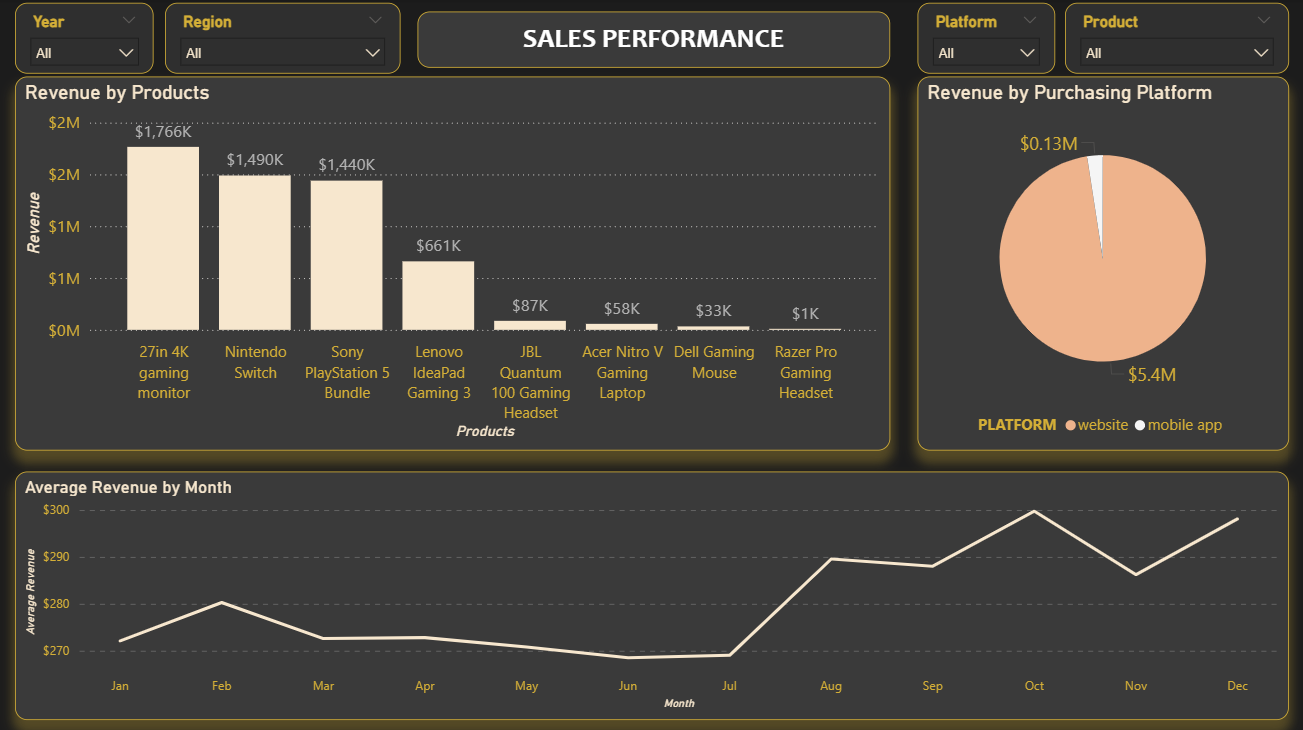

The page's visual inventory and layout, read from the dashboard file:
{"tool":"powerbi","page":{"name":"Sales","canvas":[1280,720],"ordinal":1},"visuals":[{"type":"textbox","box":[409.8,12.3,463.8,55.2],"z":0},{"type":"pieChart","title":"Revenue by Purchasing Platform","fields":{"Category":["orders.PURCHASE_PLATFORM"],"Y":["Sum(orders.USD_PRICE)"]},"box":[900.6,76.1,364.4,366.9],"z":1000},{"type":"columnChart","title":"Revenue by Products","fields":{"Y":["Sum(orders.USD_PRICE)"],"Category":["orders.PRODUCT_NAME"]},"box":[14.7,76.1,858.9,366.9],"z":2000},{"type":"lineChart","title":"Average Revenue by Month","fields":{"Y":["Avg(orders.USD_PRICE)"],"Category":["Date Table.Month Short"]},"box":[14.7,463.8,1250.3,244.2],"z":3000},{"type":"slicer","fields":{"Values":["Date Table.Year"]},"box":[15.3,4.2,136.3,69.6],"z":4000},{"type":"slicer","fields":{"Values":["region.REGION"]},"box":[161.4,4.2,231,69.6],"z":5000},{"type":"slicer","fields":{"Values":["orders.PURCHASE_PLATFORM"]},"box":[900.2,4.2,135,69.6],"z":6000},{"type":"slicer","fields":{"Values":["orders.PRODUCT_NAME"]},"box":[1044.9,4.2,219.8,69.6],"z":7000}]}

Visuals, with their boxes in screenshot pixels (x1, y1, x2, y2), scaled from the page's 1280x720 canvas onto the 1303x730 screenshot:
textbox: 417 12 889 68
"Revenue by Purchasing Platform" pieChart: 917 77 1288 449
"Revenue by Products" columnChart: 15 77 889 449
"Average Revenue by Month" lineChart: 15 470 1288 718
slicer - Date Table.Year: 16 4 154 75
slicer - region.REGION: 164 4 399 75
slicer - orders.PURCHASE_PLATFORM: 916 4 1054 75
slicer - orders.PRODUCT_NAME: 1064 4 1287 75
